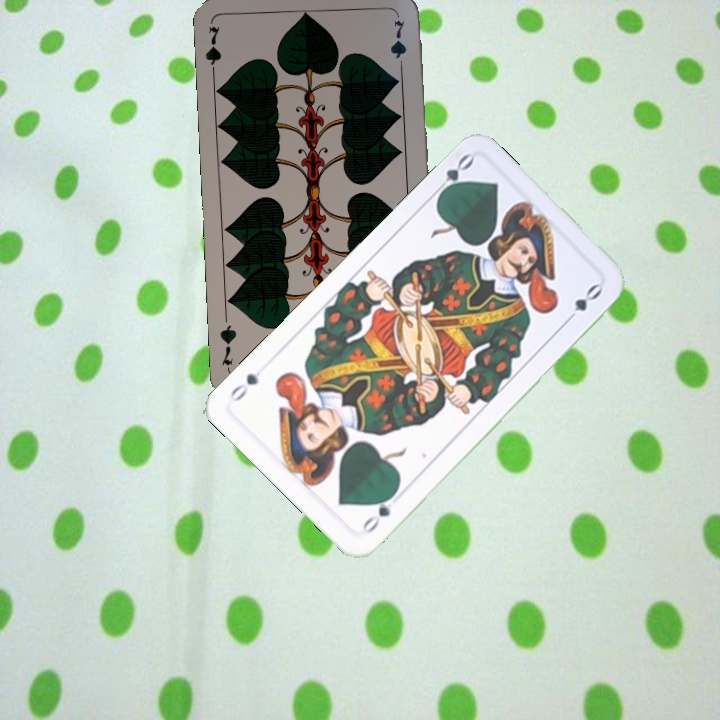G7: (202, 23, 224, 82)
GO: (428, 149, 476, 202), (357, 487, 399, 536)
